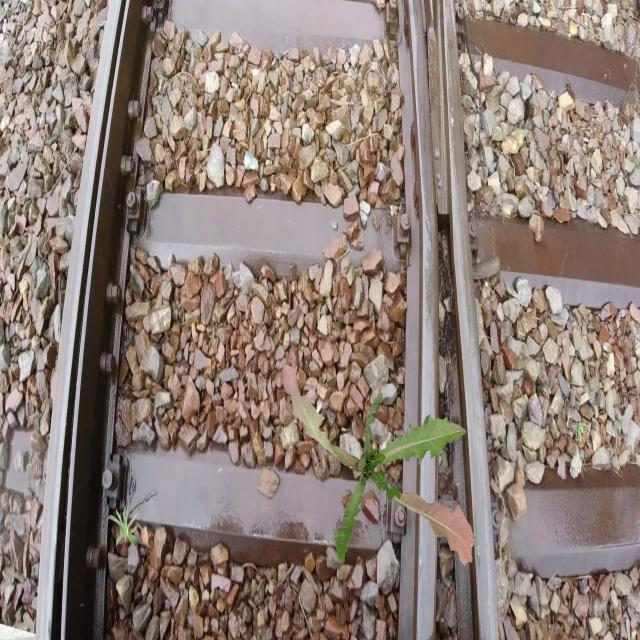Plant: (282, 364, 474, 566), (107, 502, 140, 548), (575, 423, 589, 444)
